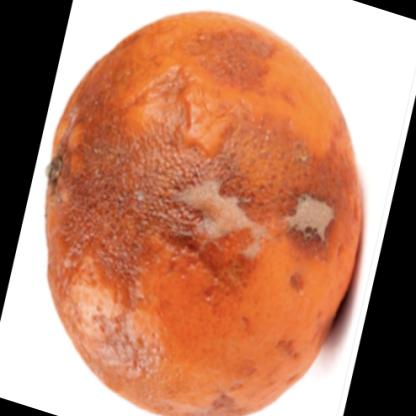rotten: (47, 10, 363, 416)
